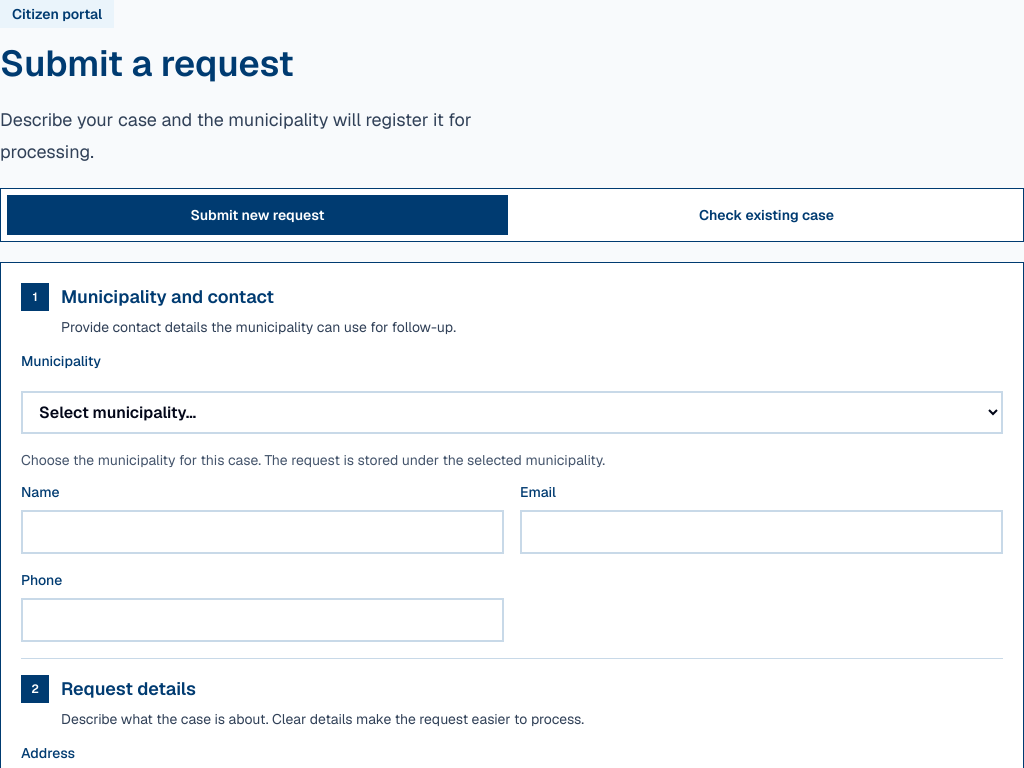
IntakeForm › keeps the public heading and introduction aligned with the active tab
Expected: the heading "Submit a request" is shown, [0,40,294,87]
Expected: the text "Describe your case and the municipality will register it for processing." is shown, [0,104,512,168]
Click the tab "Check existing case" at (766, 215), box [516,195,1017,235]
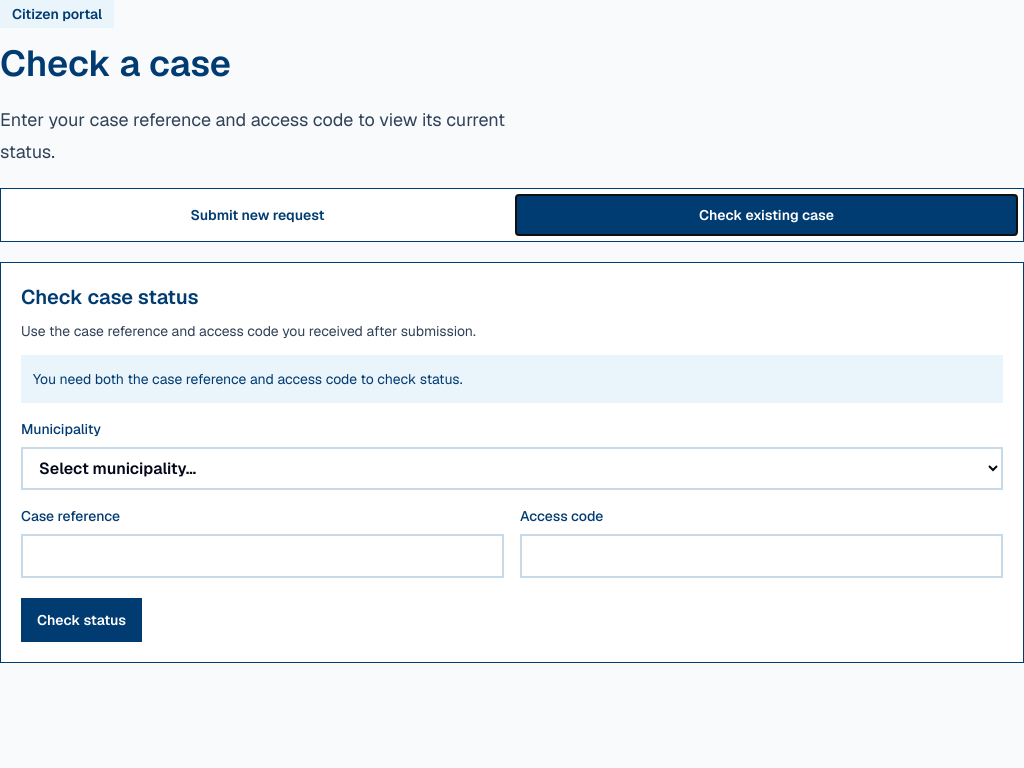
Now the heading "Check a case" is shown, box [0,40,231,87]
Now the text "Enter your case reference and access code to view its current status." is shown, box [0,104,512,168]
Click the tab "Submit new request" at (258, 215), box [7,195,508,235]
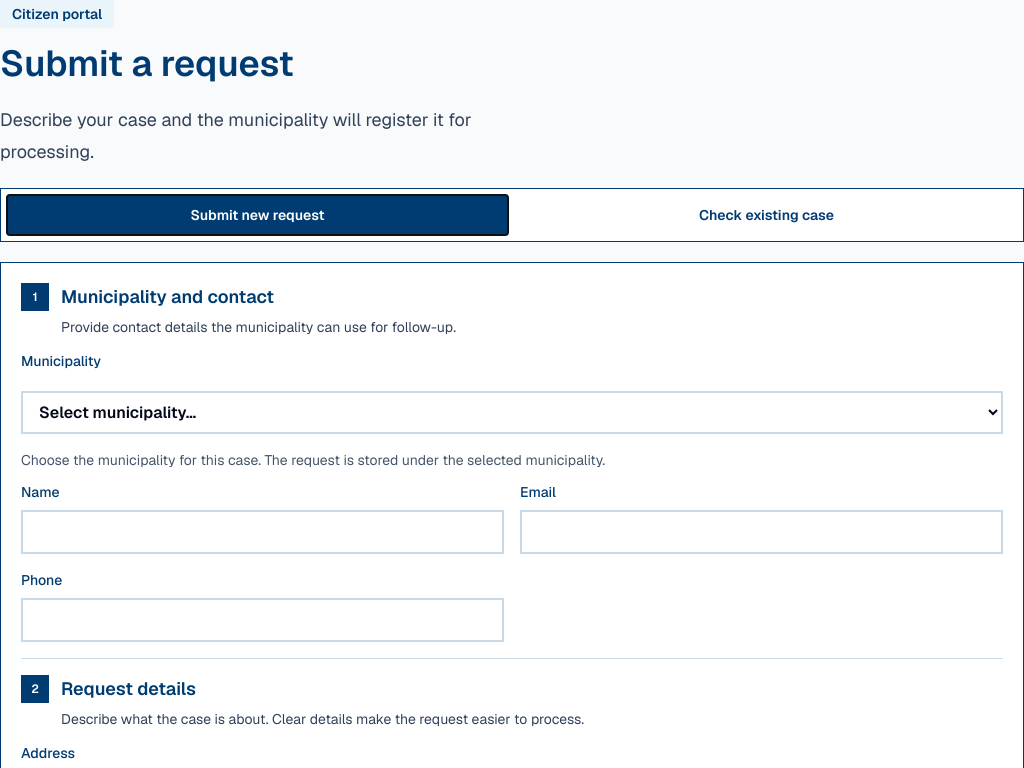
Now the heading "Submit a request" is shown, box [0,40,294,87]
